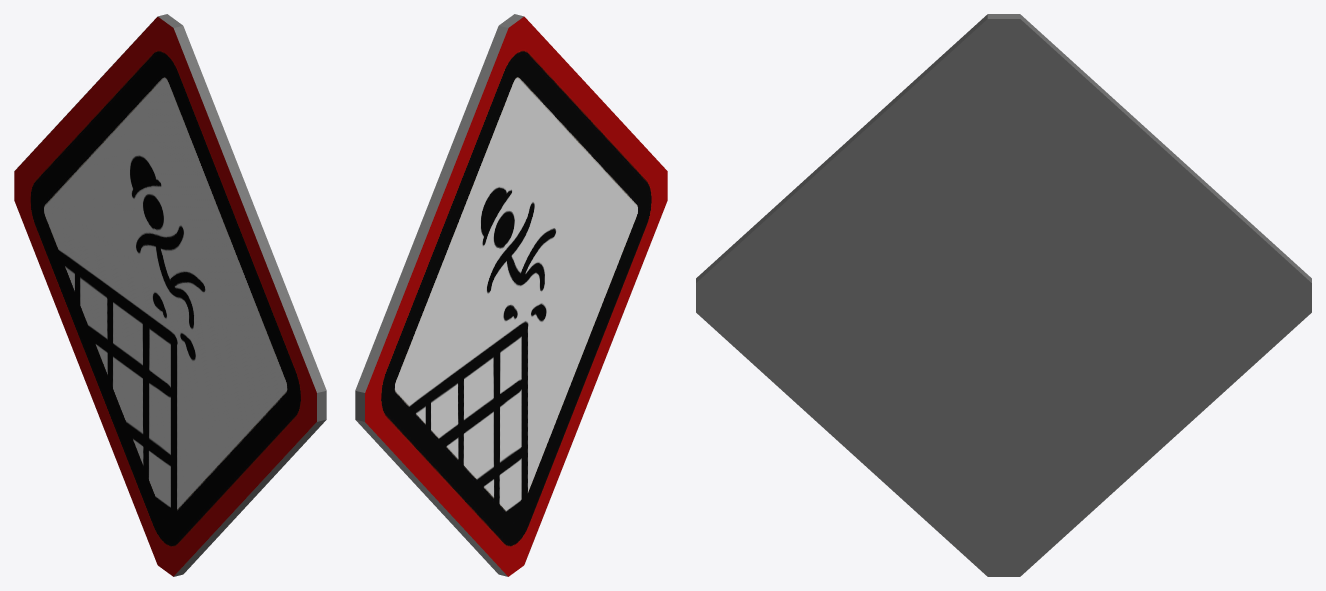
Rendered from sign_diamond.fbx.
The picture shows the model from 3 angles, left to right: view 1: azimuth 30°, elevation 25°; view 2: azimuth 150°, elevation 25°; view 3: azimuth 270°, elevation 25°; orthographic projection.
Visible parts, largest first — view 1: sign_diamond; view 2: sign_diamond; view 3: sign_diamond.
Boxes of the visible parts, left/top/right/bottom form: sign_diamond: left=14, top=14, right=326, bottom=576; sign_diamond: left=355, top=14, right=667, bottom=576; sign_diamond: left=696, top=14, right=1311, bottom=576.
Bounding box in the file's own units: 5 × 269 × 269.
